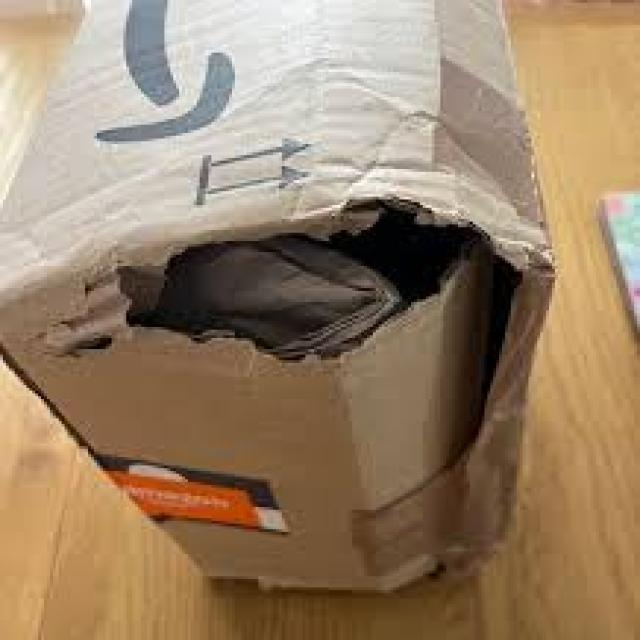package_damage: (42, 185, 581, 478)
this_side_up_label: (180, 135, 333, 208)
